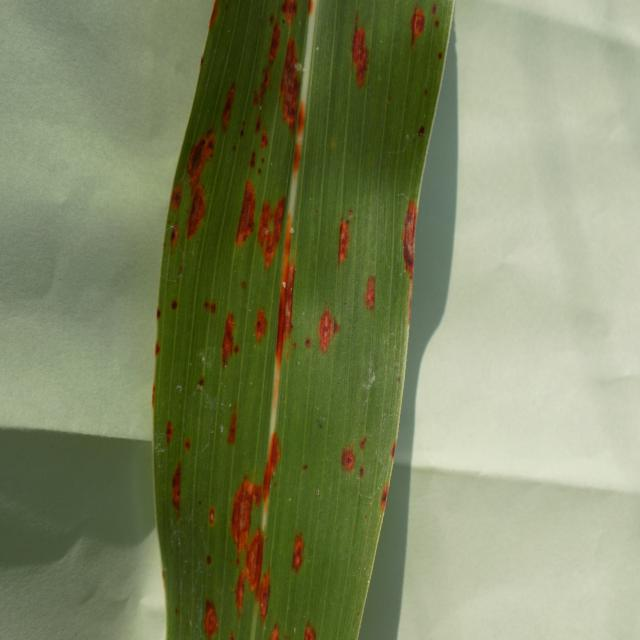millet_rust: (152, 0, 453, 640)
